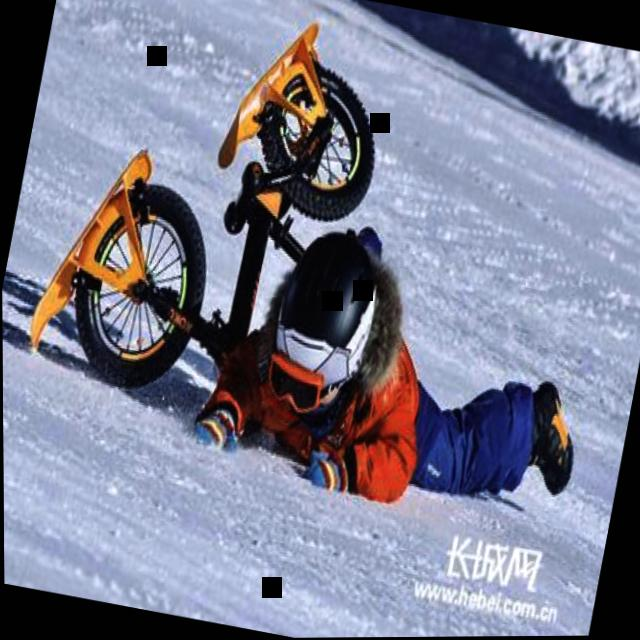Fall-Detected: (149, 158, 628, 554)
